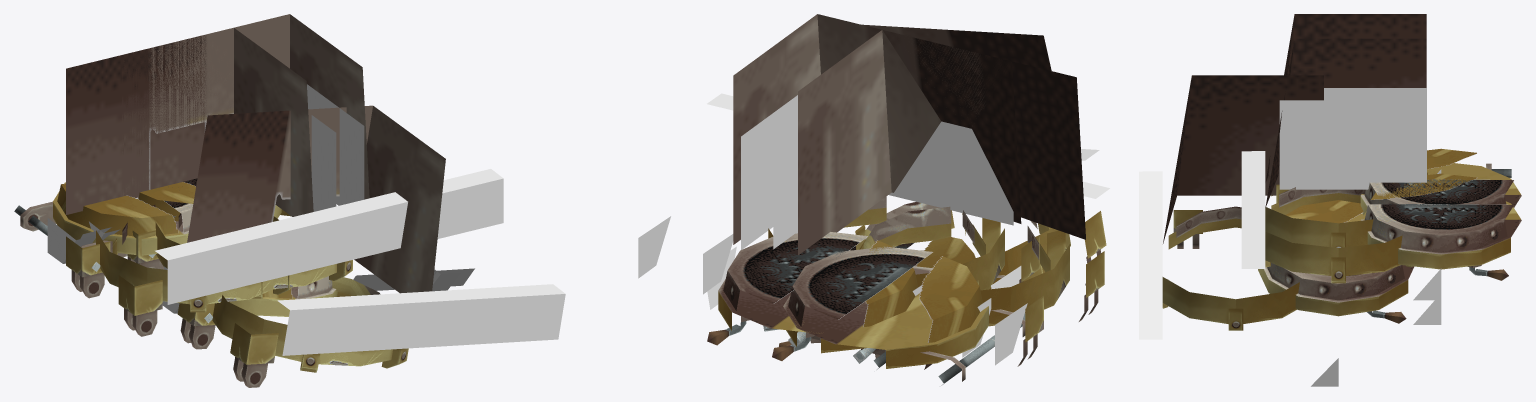
Rendered from model_compound_x5.glb.
3 renders of one model, left to right at view 1: azimuth 30°, elevation 25°; view 2: azimuth 150°, elevation 25°; view 3: azimuth 270°, elevation 25°, orthographic. The views are drawn at different scales.
Parts seen in each view (by area): view 1: rsrc.world.tileset.prize_vault.wall.setpieces.model-Variant[ (×12), rsrc.world.tileset.clockworks.wall.setpieces.part_model_fade (×2); view 2: rsrc.world.tileset.prize_vault.wall.setpieces.model-Variant[ (×9), rsrc.world.tileset.clockworks.wall.setpieces.part_model_fade (×2); view 3: rsrc.world.tileset.prize_vault.wall.setpieces.model-Variant[ (×9), rsrc.world.tileset.clockworks.wall.setpieces.part_model_fade (×2).
Boxes of the visible parts, bbox=[...] form: rsrc.world.tileset.prize_vault.wall.setpieces.model-Variant[ (×12): bbox=[14, 14, 565, 387]; rsrc.world.tileset.clockworks.wall.setpieces.part_model_fade (×2): bbox=[135, 84, 364, 211]; rsrc.world.tileset.prize_vault.wall.setpieces.model-Variant[ (×9): bbox=[638, 14, 1109, 385]; rsrc.world.tileset.clockworks.wall.setpieces.part_model_fade (×2): bbox=[741, 95, 1013, 249]; rsrc.world.tileset.prize_vault.wall.setpieces.model-Variant[ (×9): bbox=[1139, 14, 1521, 386]; rsrc.world.tileset.clockworks.wall.setpieces.part_model_fade (×2): bbox=[1279, 88, 1426, 189].
Bounding box in the file's own units: 6.35 × 4.41 × 6.53.
4 materials, 1 textured.
